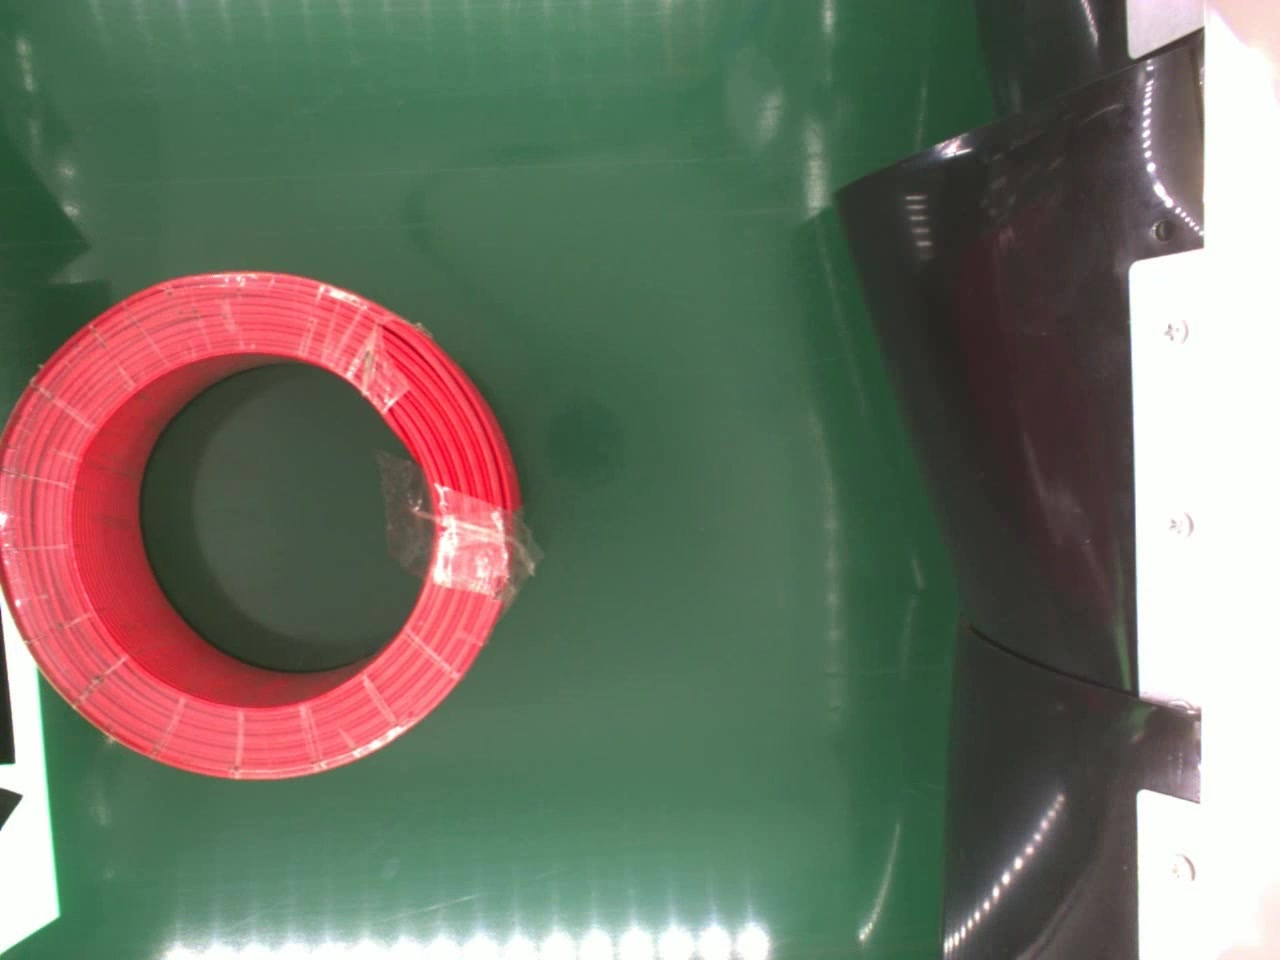red: (0, 264, 523, 787)
